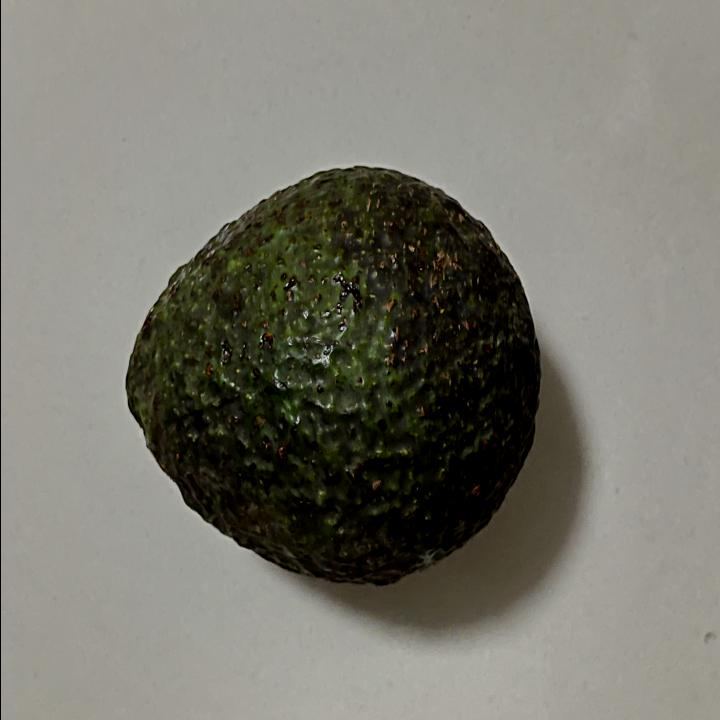Level1: (103, 152, 552, 606)
